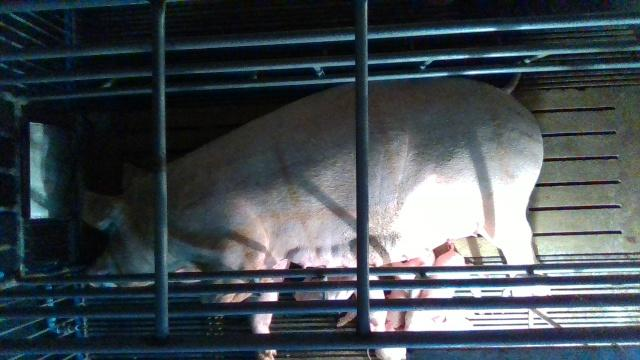piglet: (416, 241, 489, 332), (336, 272, 407, 360), (386, 248, 436, 331), (294, 274, 357, 300)
sow-sleep-lactate: (75, 74, 546, 360)
